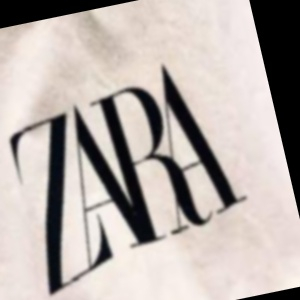zara: (184, 12, 243, 79)
